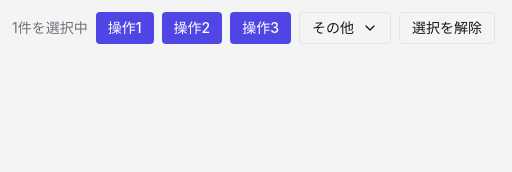
it: BulkActionBar › moves the fourth and later actions into the "その他" menu when there are five or more
The width and height of the screenshot is (512, 172).
Expected: the button "操作3" is shown, [230,12,291,44]
Expected: the button "操作4" is not shown
Step 1. Click the button "その他" → point(345, 28), box [299,12,391,44]
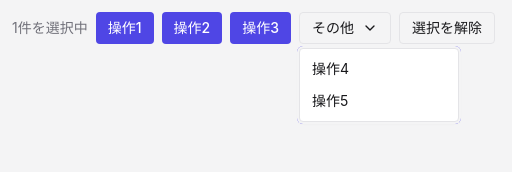
Step 2. Click the menu item "操作5" → point(330, 100), box [312,92,348,109]
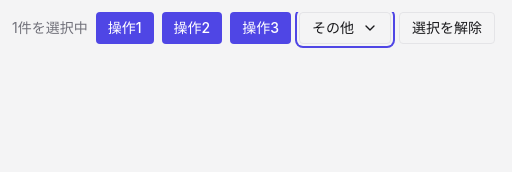
Expected: the button "操作3" is shown, [230,12,291,44]
Expected: the menu item "操作4" is gone
